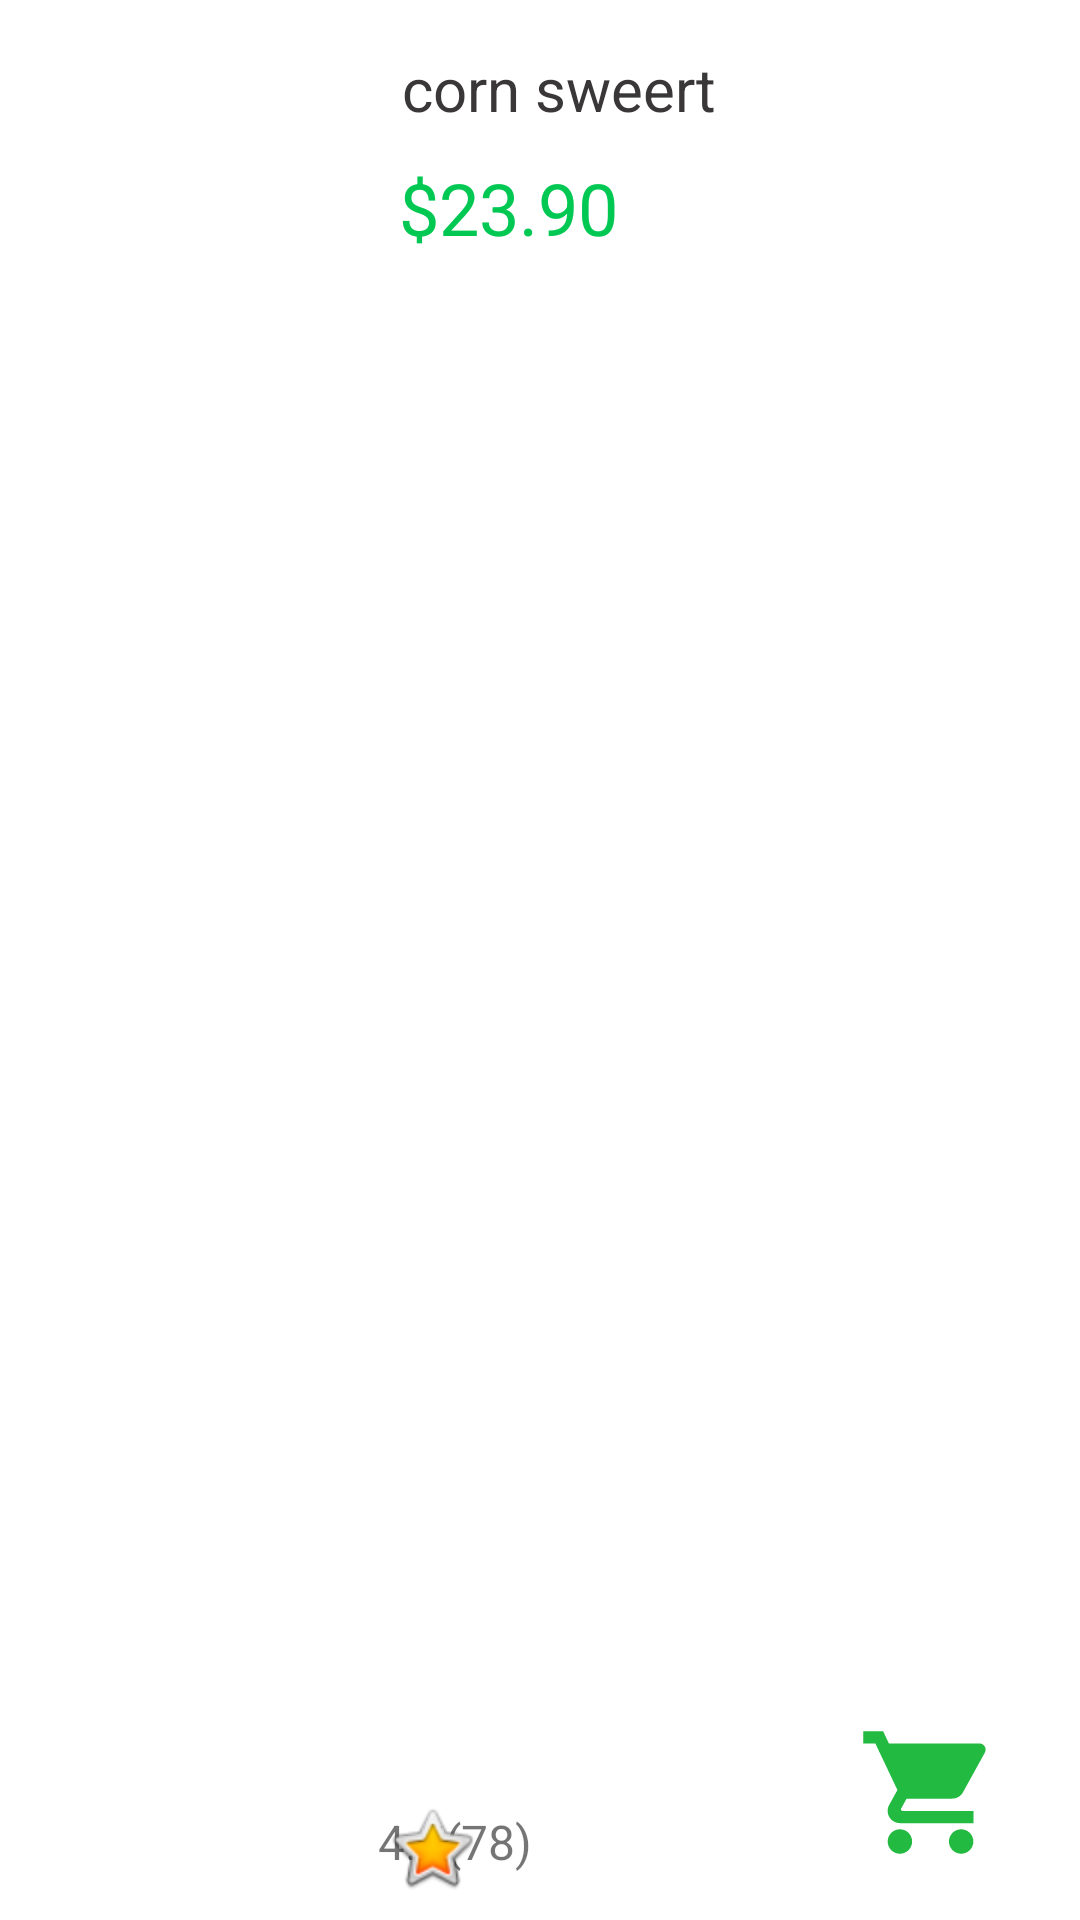

Icon bounding boxes for this 1080x1920 phone screenshot, format bbox=(x1, y1, x2, y2):
shopping cart: bbox=(863, 1731, 986, 1854)
